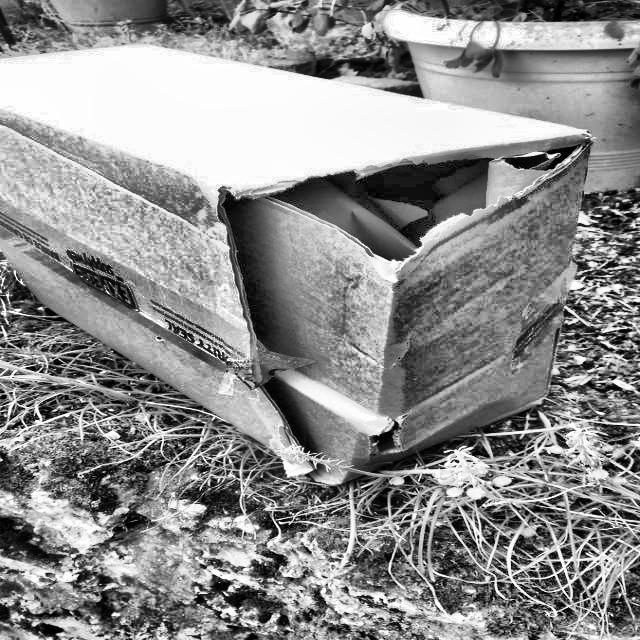box: (0, 33, 603, 507)
hole: (287, 132, 589, 260), (362, 415, 410, 455)
